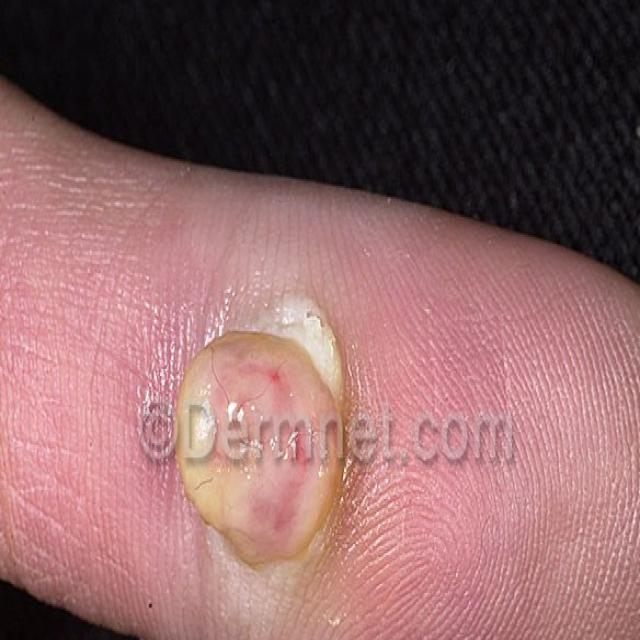Vascular Tumors: (149, 301, 393, 616)
